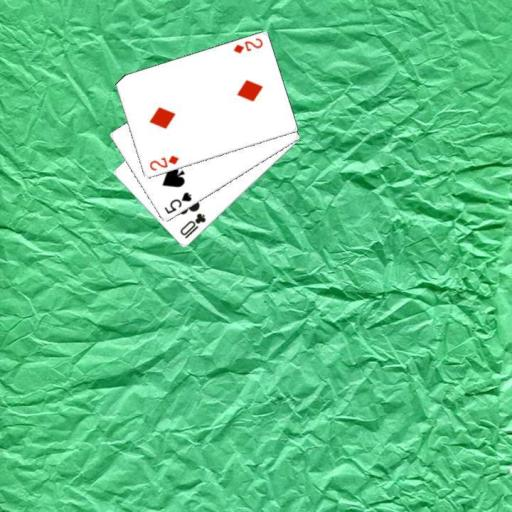10C: (176, 210, 208, 240)
2D: (146, 152, 180, 173), (230, 35, 264, 55)
5S: (162, 189, 194, 216)
